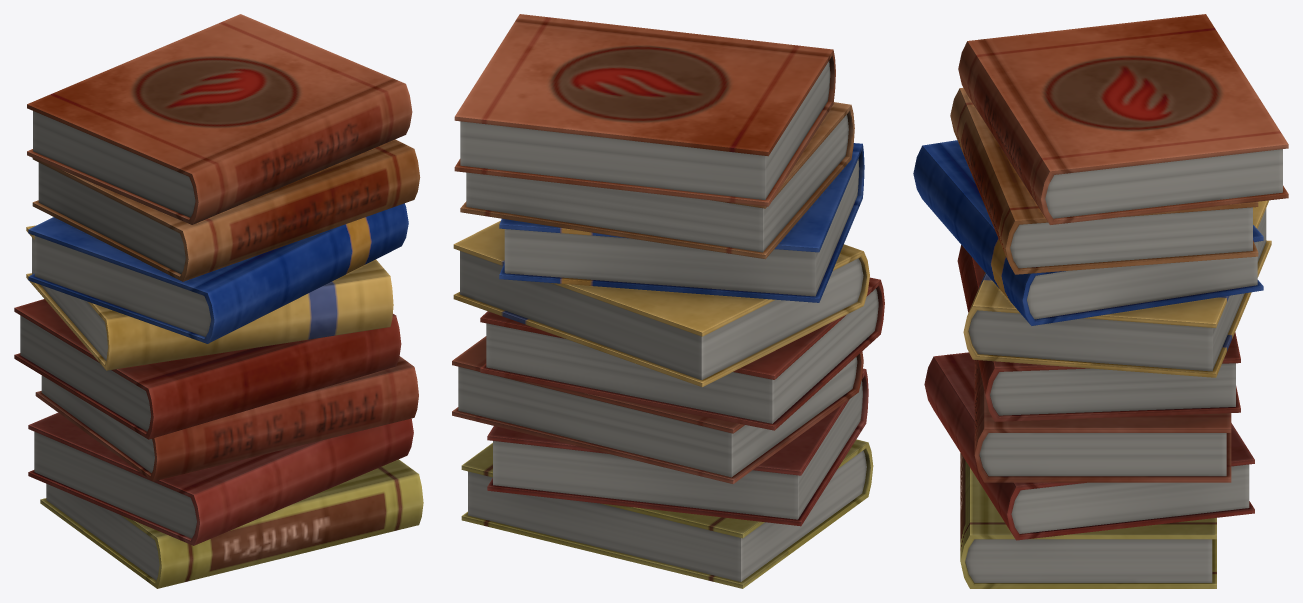
The model's file is DS_WizLab_Clut_BookPileB.fbx.
3 views of the same model, side by side, from view 1: azimuth 30°, elevation 25°; view 2: azimuth 150°, elevation 25°; view 3: azimuth 270°, elevation 25° (orthographic). The views are drawn at different scales.
Visible parts, largest first — view 1: DS_WizLab_Clut_BookPileB; view 2: DS_WizLab_Clut_BookPileB; view 3: DS_WizLab_Clut_BookPileB.
Boxes of the visible parts, bbox=[...] form: DS_WizLab_Clut_BookPileB: bbox=[14, 14, 423, 588]; DS_WizLab_Clut_BookPileB: bbox=[452, 14, 884, 588]; DS_WizLab_Clut_BookPileB: bbox=[913, 14, 1288, 588].
Size of the model in its own units: 44.31 by 52.25 by 41.29.
1 material, 1 textured.
